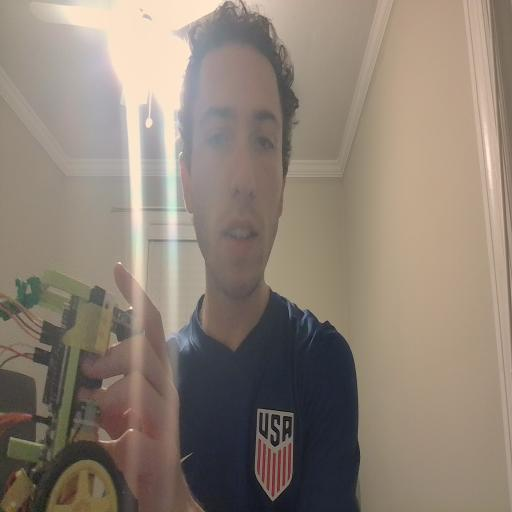green LEGO minifig: (1, 270, 42, 324)
